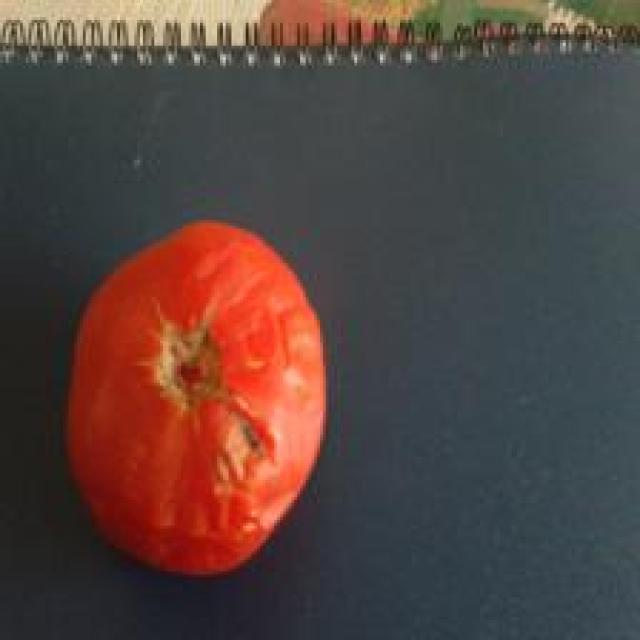overripe: (64, 216, 334, 577)
